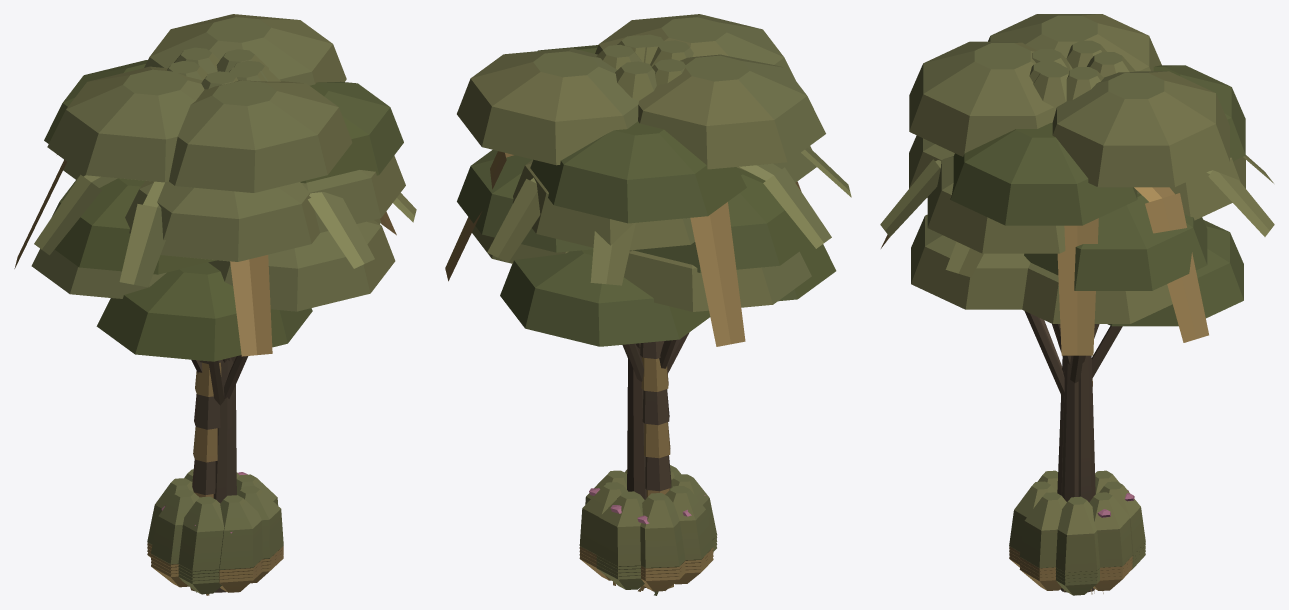
File: ap_vegetacion.glb
The picture shows the model from 3 angles, left to right: view 1: azimuth 30°, elevation 25°; view 2: azimuth 150°, elevation 25°; view 3: azimuth 270°, elevation 25°; orthographic projection.
Parts seen in each view (by area): view 1: pino_3__malla, pino_1__malla, pino_2__malla, palmera_1__malla, adelfa_1__malla, eucalipto_2__malla, eucalipto_1__malla, mata_seca_1__malla, mata_seca_3__malla, mata_seca_2__malla; view 2: pino_3__malla, pino_1__malla, palmera_1__malla, pino_2__malla, adelfa_1__malla, eucalipto_2__malla, eucalipto_1__malla, mata_seca_1__malla, mata_seca_2__malla, mata_seca_3__malla; view 3: pino_3__malla, pino_2__malla, pino_1__malla, palmera_1__malla, adelfa_1__malla, eucalipto_2__malla, eucalipto_1__malla, mata_seca_1__malla, mata_seca_3__malla, mata_seca_2__malla.
Part boxes in pixels (x1,y1,x2,y2): pino_3__malla: (44, 14, 403, 192); pino_1__malla: (31, 218, 395, 592); pino_2__malla: (52, 155, 405, 495); palmera_1__malla: (14, 154, 416, 591); adelfa_1__malla: (147, 469, 283, 571); eucalipto_2__malla: (174, 47, 280, 89); eucalipto_1__malla: (167, 49, 268, 81); mata_seca_1__malla: (147, 552, 283, 594); mata_seca_3__malla: (147, 546, 283, 577); mata_seca_2__malla: (147, 549, 283, 581); pino_3__malla: (457, 14, 825, 587); pino_1__malla: (472, 226, 836, 381); palmera_1__malla: (445, 148, 851, 588); pino_2__malla: (457, 146, 816, 348); adelfa_1__malla: (579, 465, 717, 568); eucalipto_2__malla: (615, 35, 693, 100); eucalipto_1__malla: (596, 34, 686, 85); mata_seca_1__malla: (579, 546, 716, 591); mata_seca_2__malla: (579, 542, 717, 577); mata_seca_3__malla: (579, 539, 717, 574); pino_3__malla: (909, 14, 1245, 592); pino_2__malla: (909, 135, 1245, 592); pino_1__malla: (911, 214, 1243, 495); palmera_1__malla: (880, 155, 1274, 386); adelfa_1__malla: (1009, 470, 1145, 572); eucalipto_2__malla: (1032, 49, 1135, 122); eucalipto_1__malla: (1029, 40, 1106, 100); mata_seca_1__malla: (1009, 552, 1145, 595); mata_seca_3__malla: (1009, 546, 1145, 578); mata_seca_2__malla: (1009, 549, 1145, 582).
Bounding box in the file's own units: 5.6 × 8 × 5.46.
7 materials, 7 textured.
